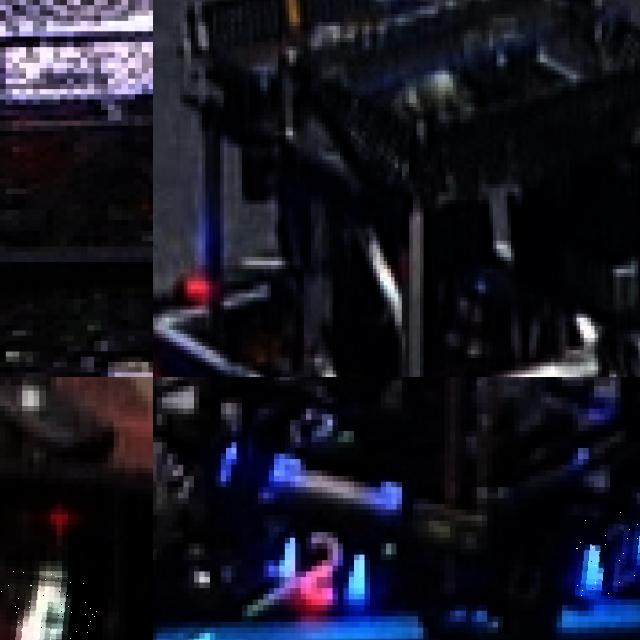B2: (263, 512, 381, 614), (575, 506, 640, 596)
R4: (0, 566, 96, 640)
